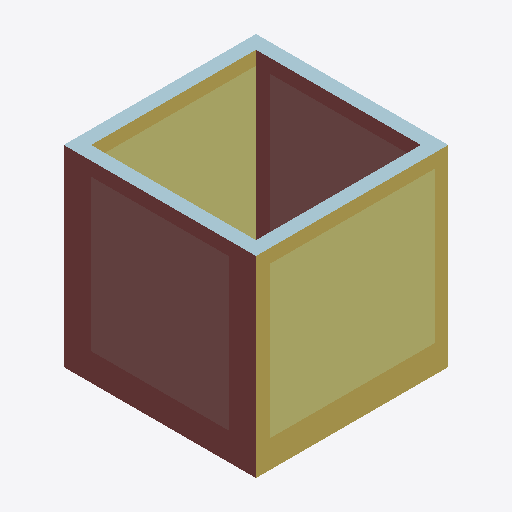
A Minecraft block model of 5 cuboids, rendered isometrically (azimuth 45°, elevation 35.3°) with the resource pack's own textures.
Parts seen in each view (by area): element 3, element 5, element 2, element 4, element 1.
Part boxes in pixels (bbox=[...]): element 3: bbox=[242, 137, 447, 461]; element 5: bbox=[77, 145, 254, 453]; element 2: bbox=[64, 34, 268, 358]; element 4: bbox=[256, 42, 433, 239]; element 1: bbox=[64, 352, 447, 477].
Size of the model in its own units: 14 by 14 by 14.